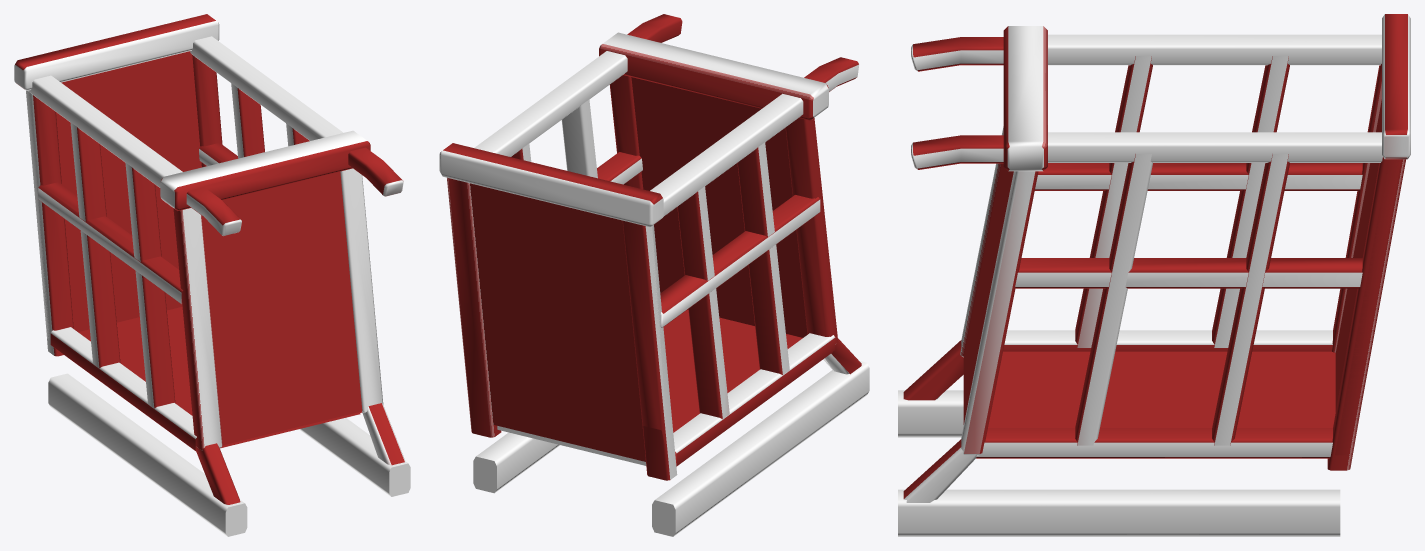
Rendered from car.dae.
3 views of the same model, side by side, from view 1: azimuth 30°, elevation 25°; view 2: azimuth 150°, elevation 25°; view 3: azimuth 270°, elevation 25° (orthographic). The views are drawn at different scales.
Parts seen in each view (by area): view 1: pCube35.001; view 2: pCube35.001; view 3: pCube35.001.
Part boxes in pixels (x1,y1,x2,y2): pCube35.001: (14, 14, 410, 536); pCube35.001: (439, 14, 869, 536); pCube35.001: (898, 14, 1410, 536).
Size of the model in its own units: 1.17 by 2.12 by 1.87.
1 material, 1 textured.
